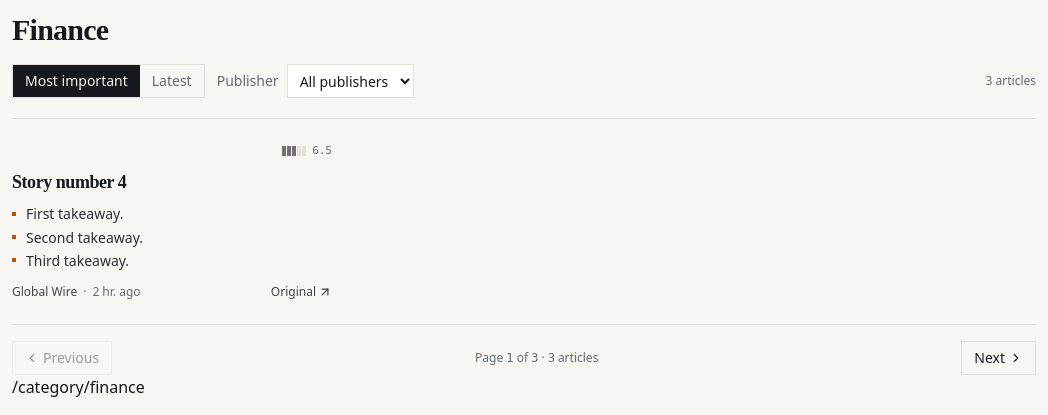
Test: CategoryPage › paginates
This screenshot has width=1048, height=415.
Click the button "Next" at (999, 358), box [961,341,1036,375]
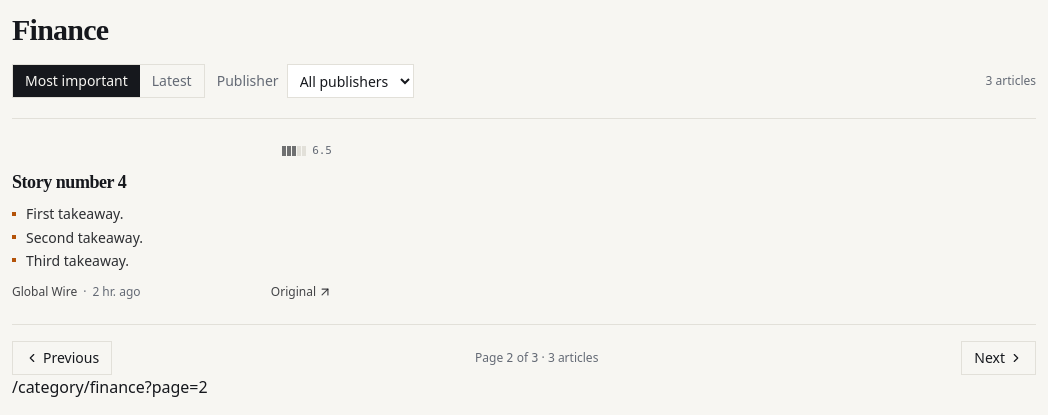
Expected: the text "Page 2 of 3 · 3 articles" is shown, [475,350,598,366]
Now the text with test id "location" shows "page=2", box [12,376,208,398]
Now the button "Previous" is enabled, box [12,341,112,375]
